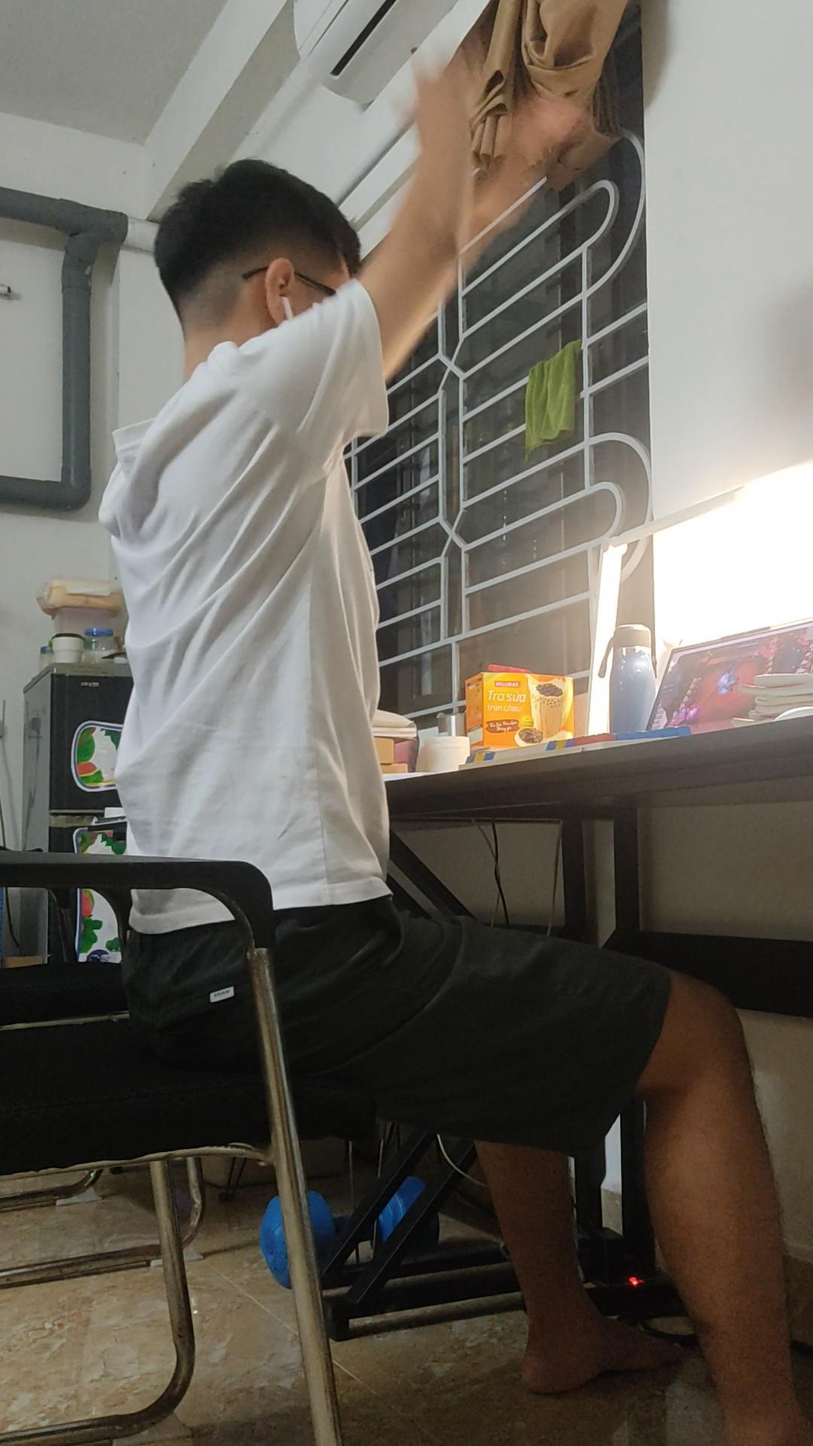GoodPosture: (99, 59, 812, 1445)
